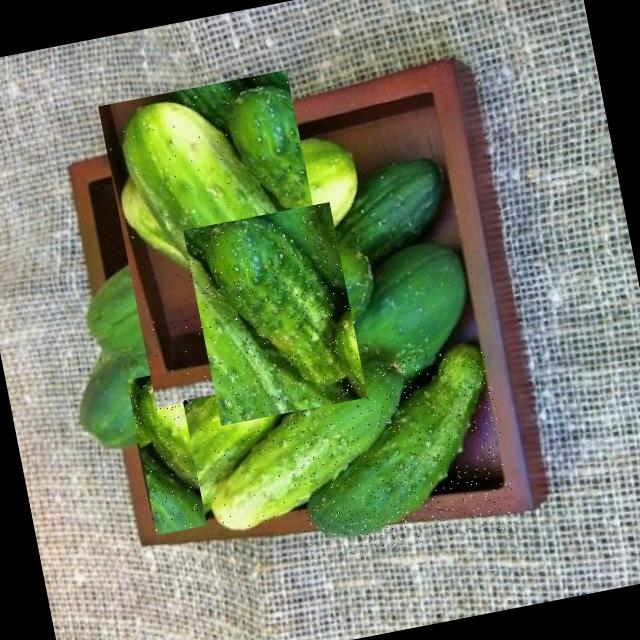Cucumber: (284, 352, 504, 544), (190, 364, 426, 536), (199, 192, 360, 422)
